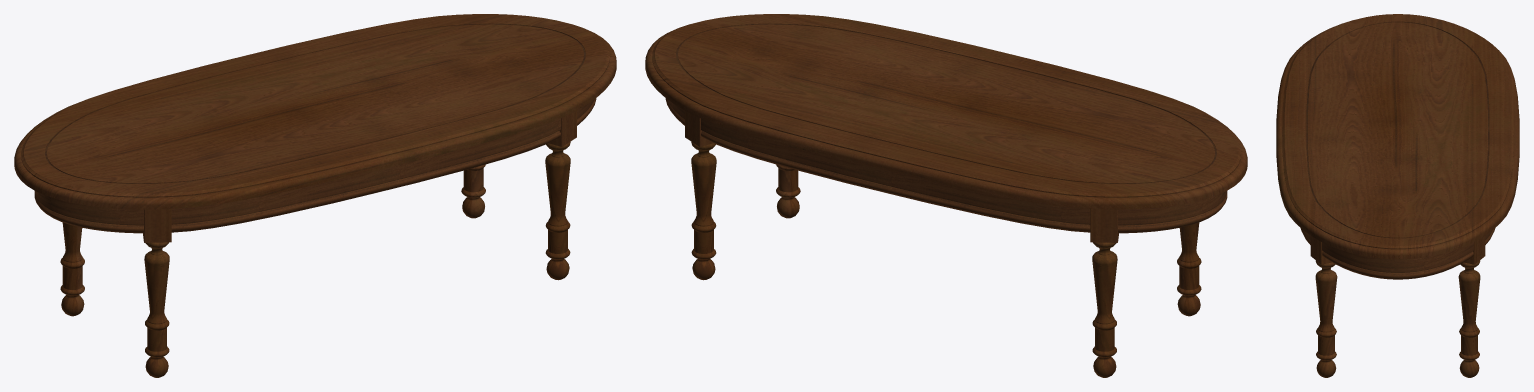
Rendered from coffee_table.glb.
3 views of the same model, side by side, from view 1: azimuth 30°, elevation 25°; view 2: azimuth 150°, elevation 25°; view 3: azimuth 270°, elevation 25° (orthographic). The views are drawn at different scales.
Parts seen in each view (by area): view 1: Table; view 2: Table; view 3: Table.
Boxes of the visible parts, x1,y1,x2,y2 form: Table: [14, 14, 616, 377]; Table: [645, 14, 1247, 377]; Table: [1276, 14, 1519, 377].
Size of the model in its own units: 136 by 43.48 by 58.51.
1 material, 1 textured.
